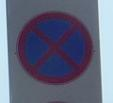No Parking: (17, 12, 95, 86)
